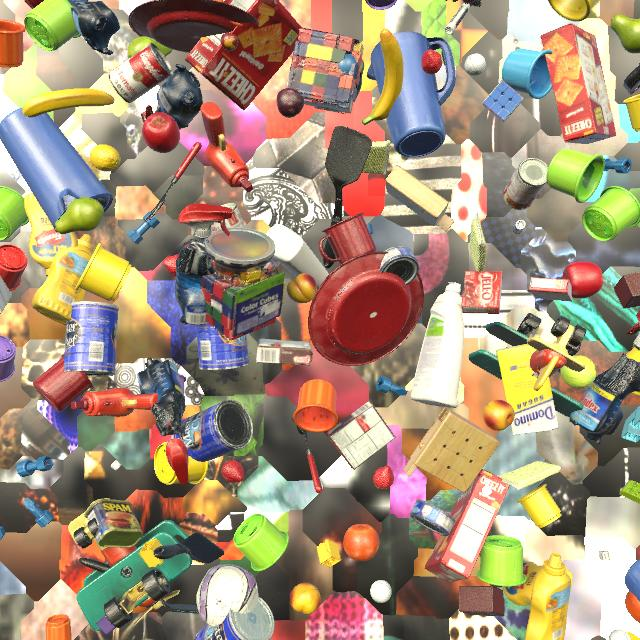ycb_002_master_chef_can: (171, 399, 253, 462), (64, 301, 119, 377), (194, 597, 275, 640), (196, 324, 249, 370)
ycb_003_cracker_box: (185, 0, 303, 110), (425, 469, 509, 583), (541, 23, 616, 144)
ycb_004_sugar_box: (496, 344, 559, 435), (0, 276, 12, 314)
ycb_005_tomato_soup_can: (108, 43, 173, 103), (503, 158, 548, 210), (211, 203, 246, 232)
ycb_006_mustard_bottle: (31, 234, 93, 325), (24, 193, 78, 277), (525, 553, 571, 640), (501, 561, 573, 606)
ycb_007_tuna_fish_can: (410, 499, 455, 536), (380, 246, 419, 285)
ycb_008_pudding_box: (327, 401, 396, 470), (256, 339, 313, 365), (263, 257, 281, 273)
ycb_009_gelatin_box: (461, 271, 503, 314), (529, 277, 572, 302)
ycb_010_potted_meat_can: (84, 499, 143, 548)
ycb_011_banana: (362, 29, 404, 125), (22, 88, 114, 117)
ycb_012_strawberry: (421, 49, 442, 75), (221, 460, 244, 483), (373, 466, 394, 490), (163, 255, 178, 277)
ycb_013_apple: (142, 112, 180, 153), (562, 262, 603, 299)
ycb_014_lemon: (90, 144, 121, 171)
ycb_015_peach: (290, 582, 321, 615), (483, 400, 515, 431), (287, 273, 317, 303)
ycb_016_pear: (55, 197, 104, 234), (610, 14, 640, 53), (127, 36, 173, 59)
ycb_017_orange: (343, 524, 380, 562), (625, 591, 640, 623)
ycb_018_plum: (276, 88, 304, 118)
